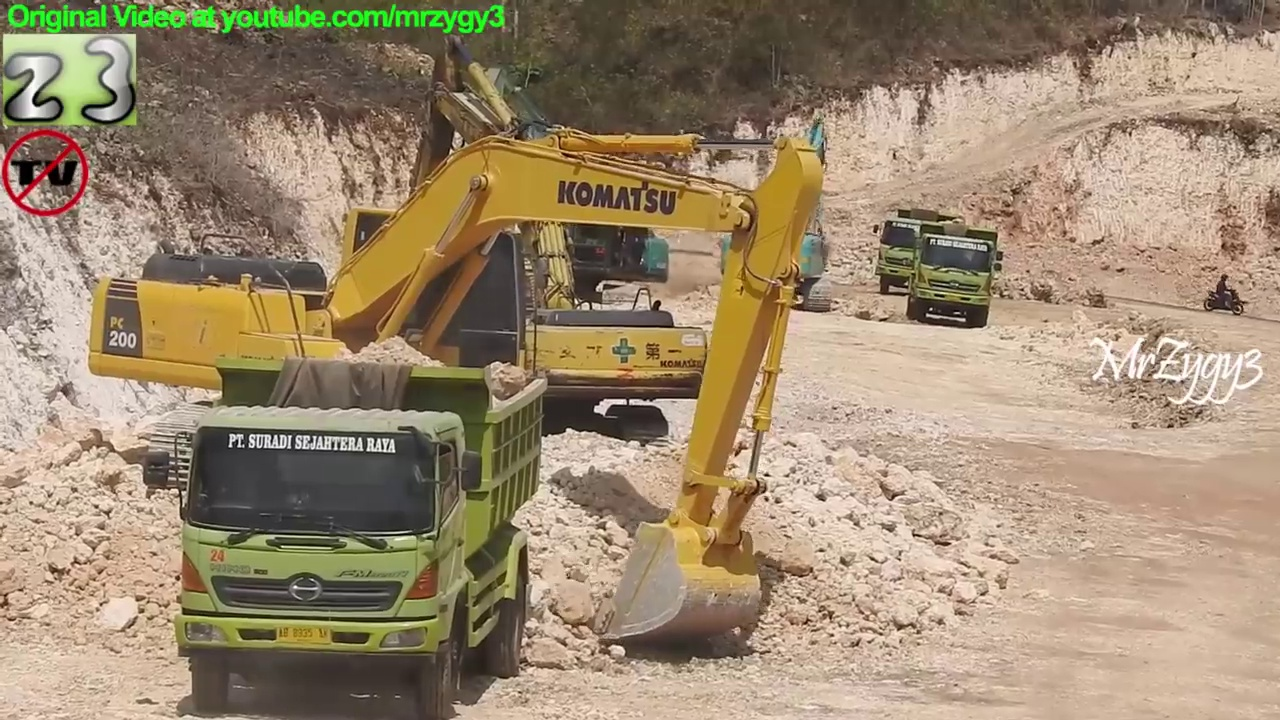excavator: (85, 120, 826, 662), (364, 27, 716, 458), (436, 61, 679, 333), (716, 116, 837, 316)
truck: (141, 352, 547, 720), (905, 219, 1006, 327), (872, 206, 967, 299)
